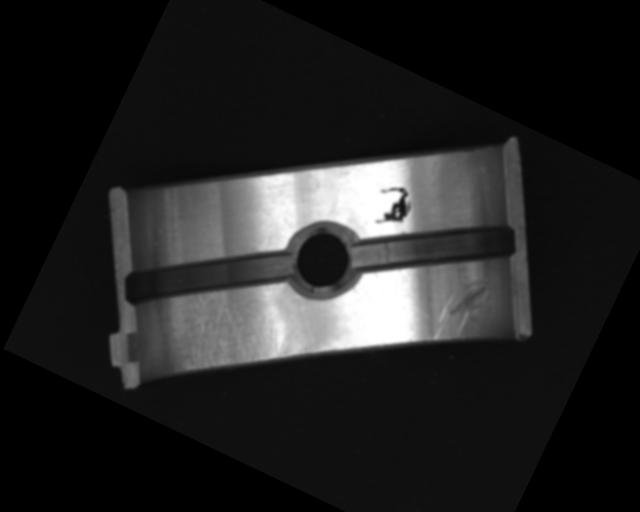blot: (363, 178, 419, 240)
gap: (117, 195, 299, 360), (345, 170, 522, 326)
hole: (272, 209, 375, 312)
nick: (428, 266, 498, 357)
scratch: (140, 270, 315, 419)
